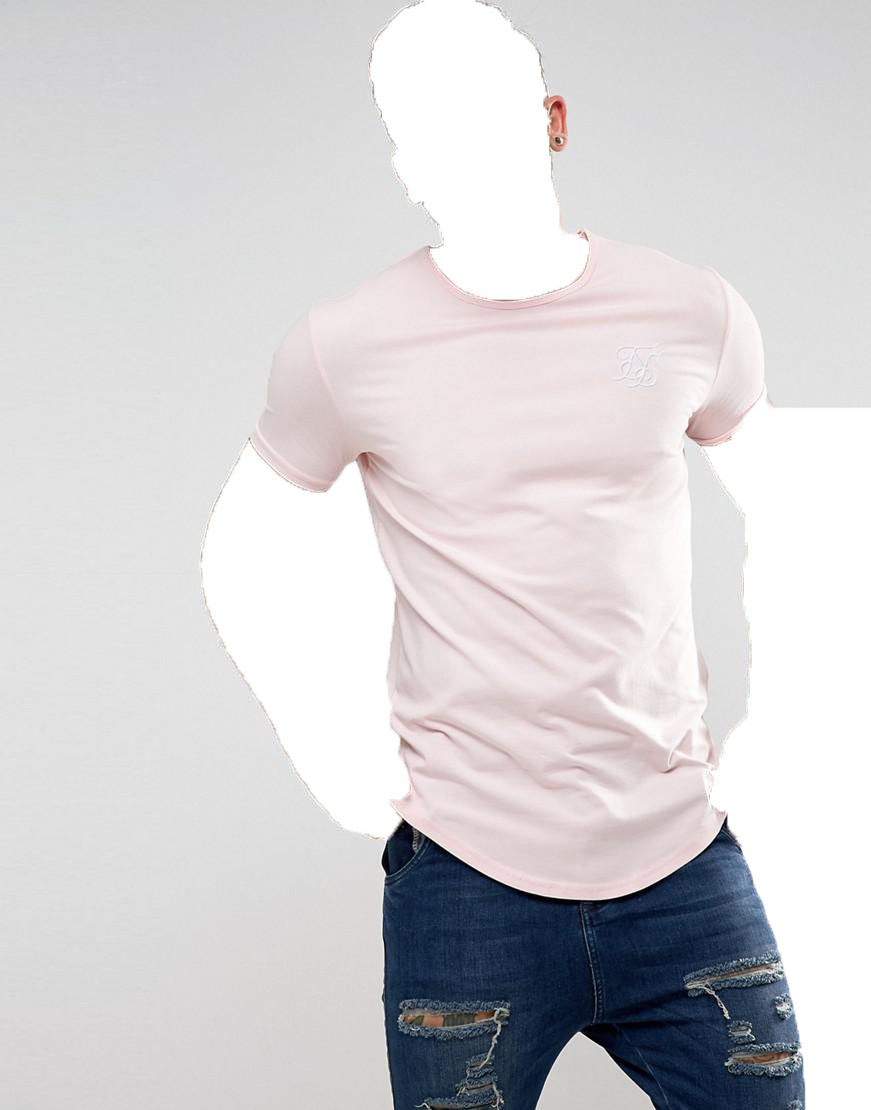teeshirt: (244, 230, 800, 898)
